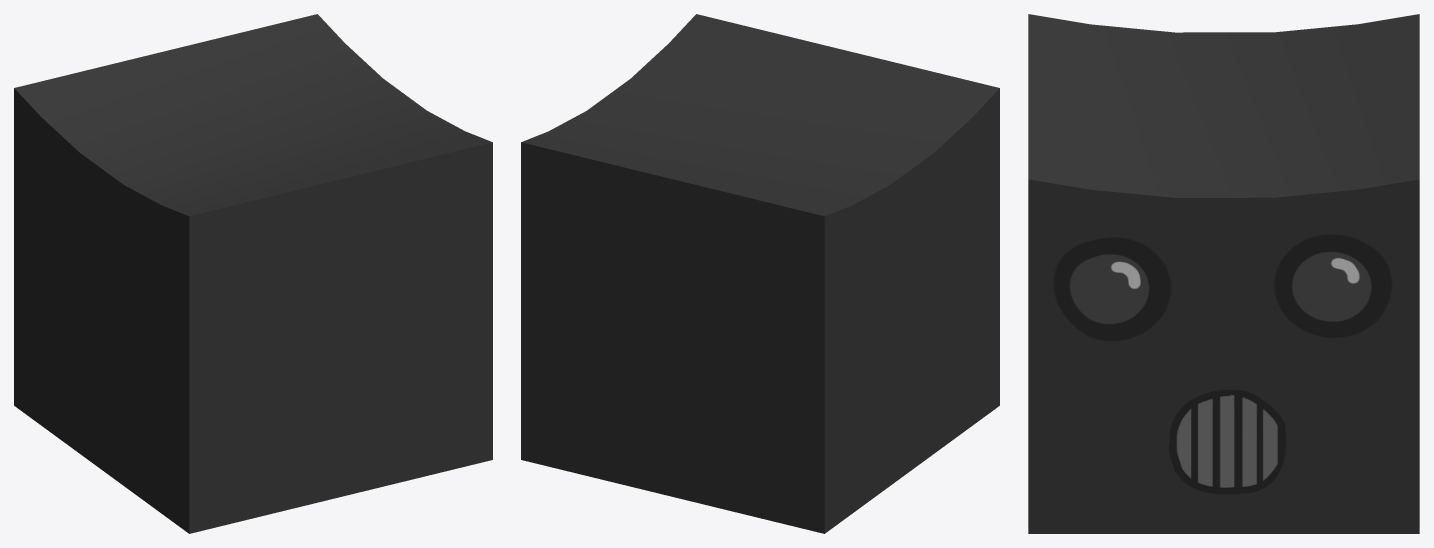
The model's file is pyro.fbx.
3 renders of one model, left to right at view 1: azimuth 30°, elevation 25°; view 2: azimuth 150°, elevation 25°; view 3: azimuth 270°, elevation 25°, orthographic. The views are drawn at different scales.
Parts seen in each view (by area): view 1: Cube.001; view 2: Cube.001; view 3: Cube.001.
Boxes of the visible parts, x1,y1,x2,y2 form: Cube.001: (14, 14, 492, 533); Cube.001: (521, 14, 999, 533); Cube.001: (1028, 14, 1419, 533).
Size of the model in its own units: 200 by 200 by 200.
